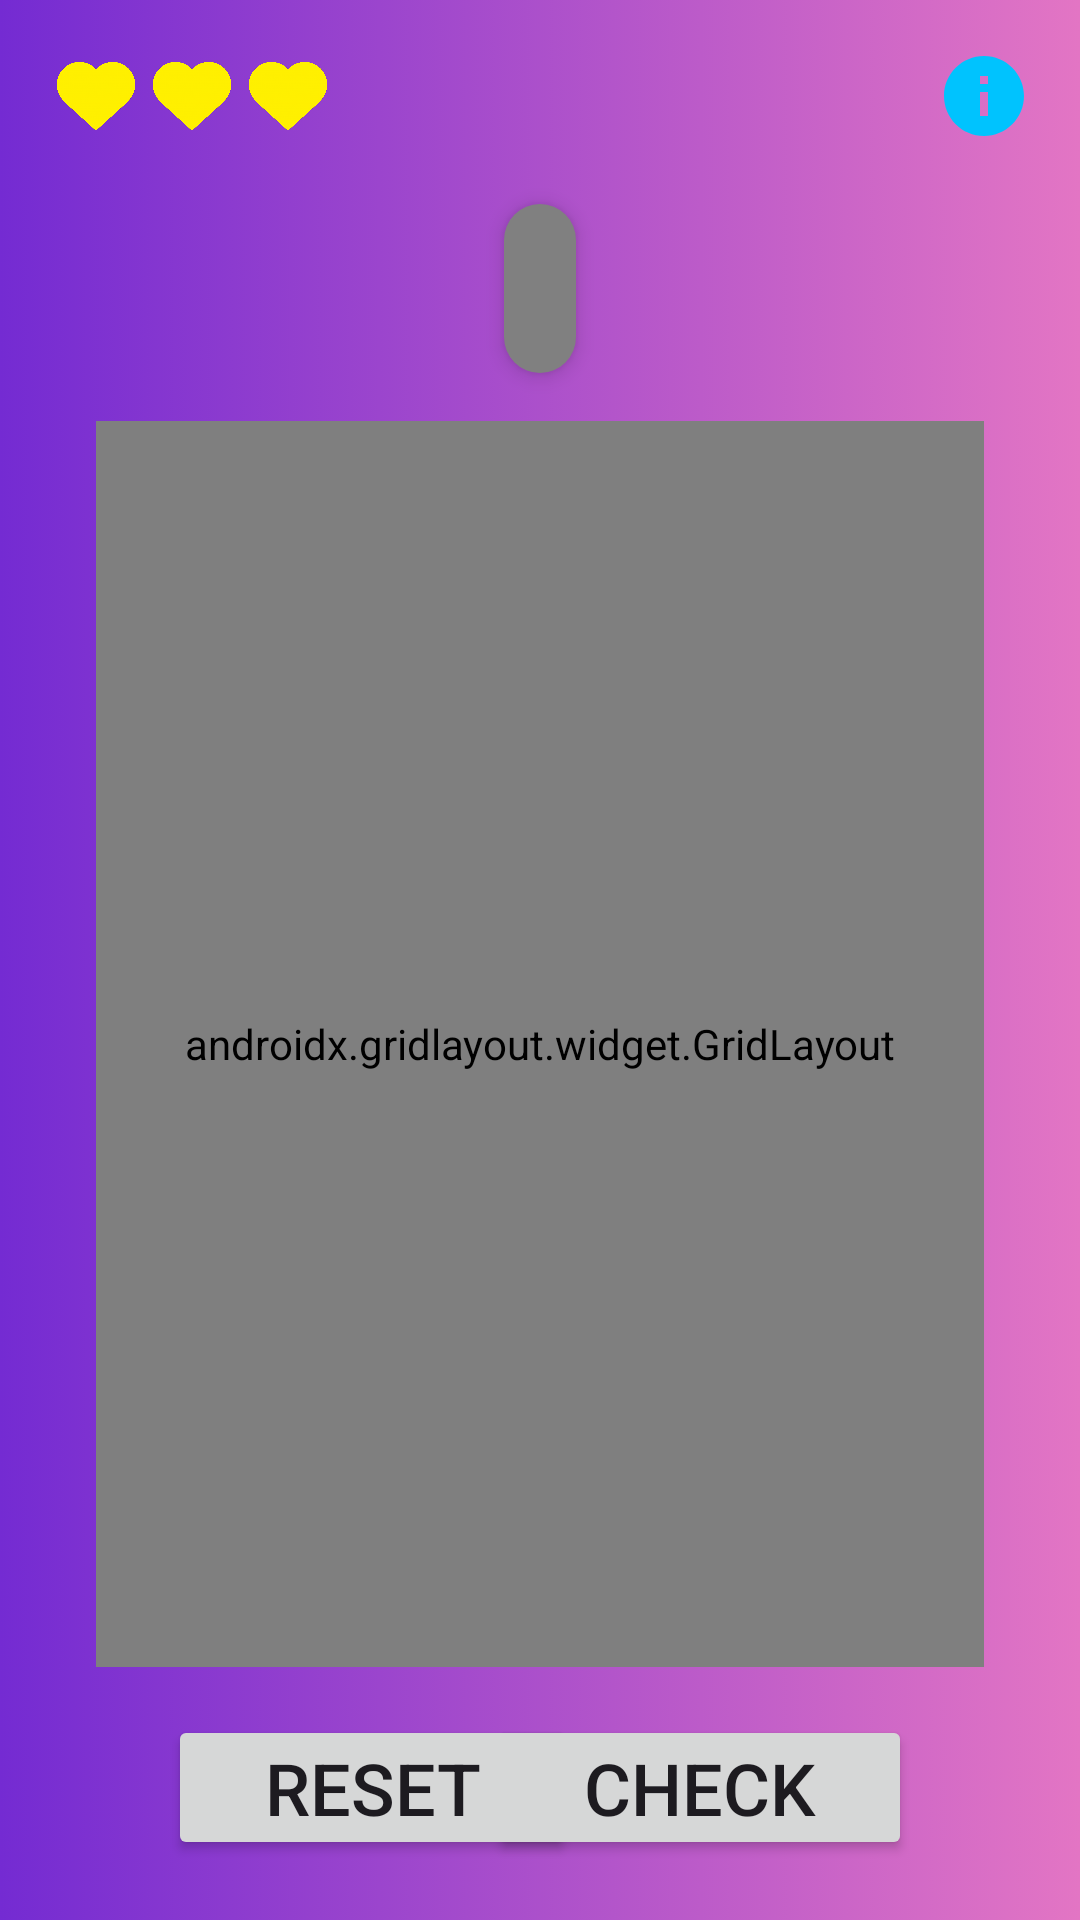

Where icons sit on this 1080×1920 app screen, as {"x1": x1, "y1": y1, "x2": x2, "y2": y2}:
heart: {"x1": 57, "y1": 62, "x2": 135, "y2": 130}, {"x1": 153, "y1": 62, "x2": 231, "y2": 130}, {"x1": 249, "y1": 62, "x2": 327, "y2": 130}
info: {"x1": 944, "y1": 56, "x2": 1024, "y2": 136}
